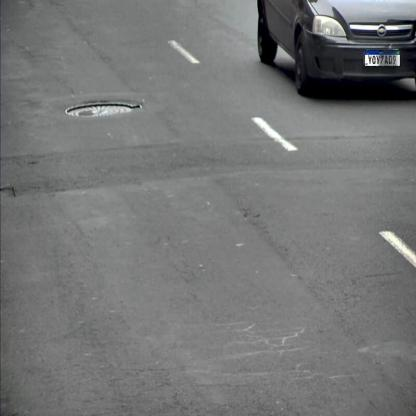PlacaM: (364, 50, 400, 66)
